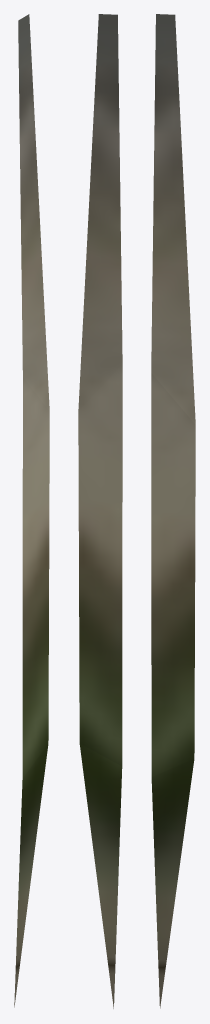
3 views of the same model, side by side, from view 1: azimuth 30°, elevation 25°; view 2: azimuth 150°, elevation 25°; view 3: azimuth 330°, elevation 25° (orthographic).
Bounding box in the file's own units: 0.0302 × 0.8042 × 0.0128.
Materials: 1 (1 with a texture image).
